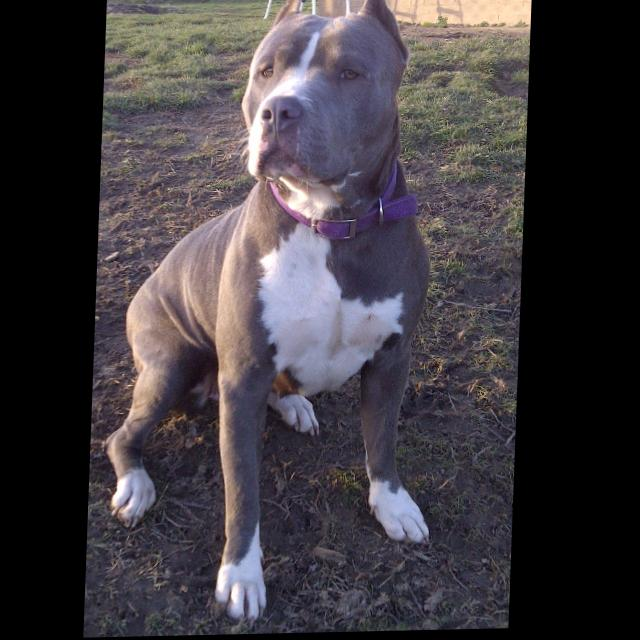other_dog_breed: (104, 1, 452, 632)
